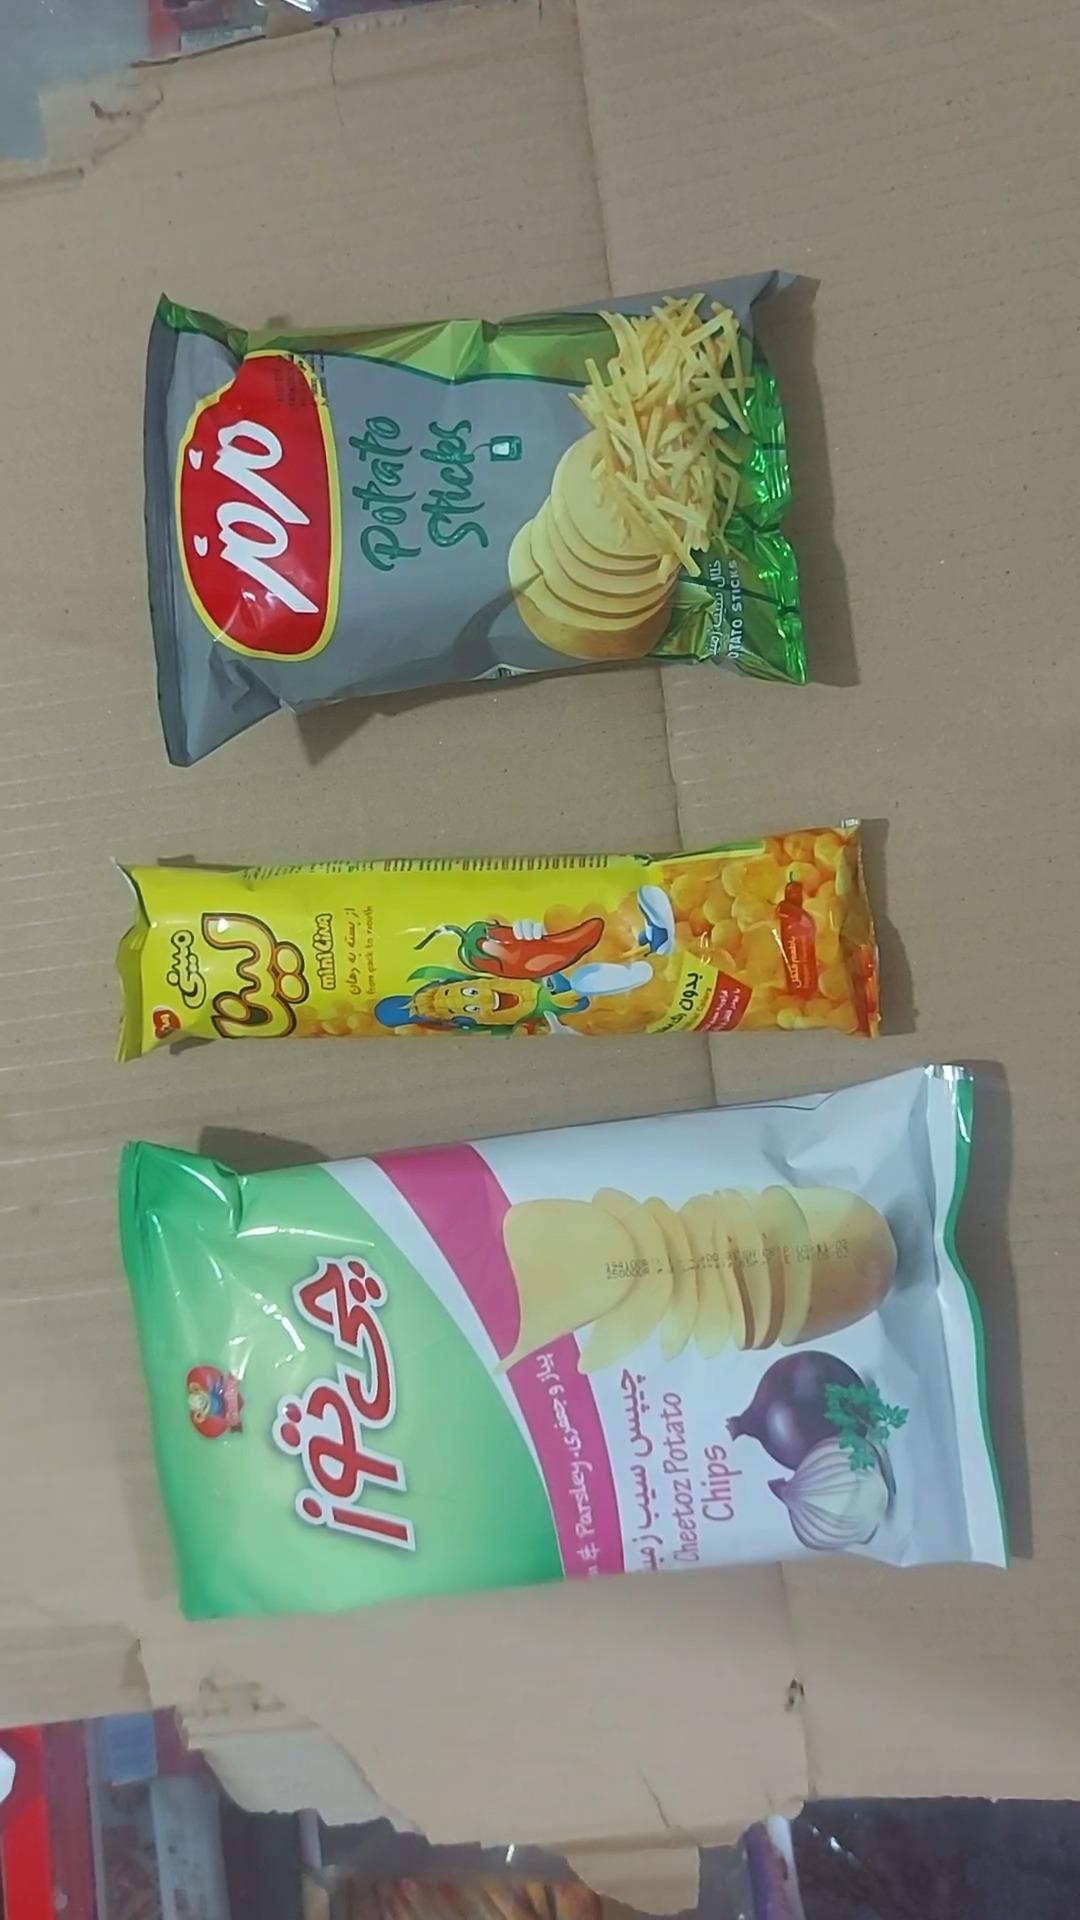Cheetoz onion and parsley chips: (120, 1065, 1009, 1619)
Maz Maz potato sticks: (144, 277, 806, 766)
Mini Lina: (117, 825, 878, 1062)
